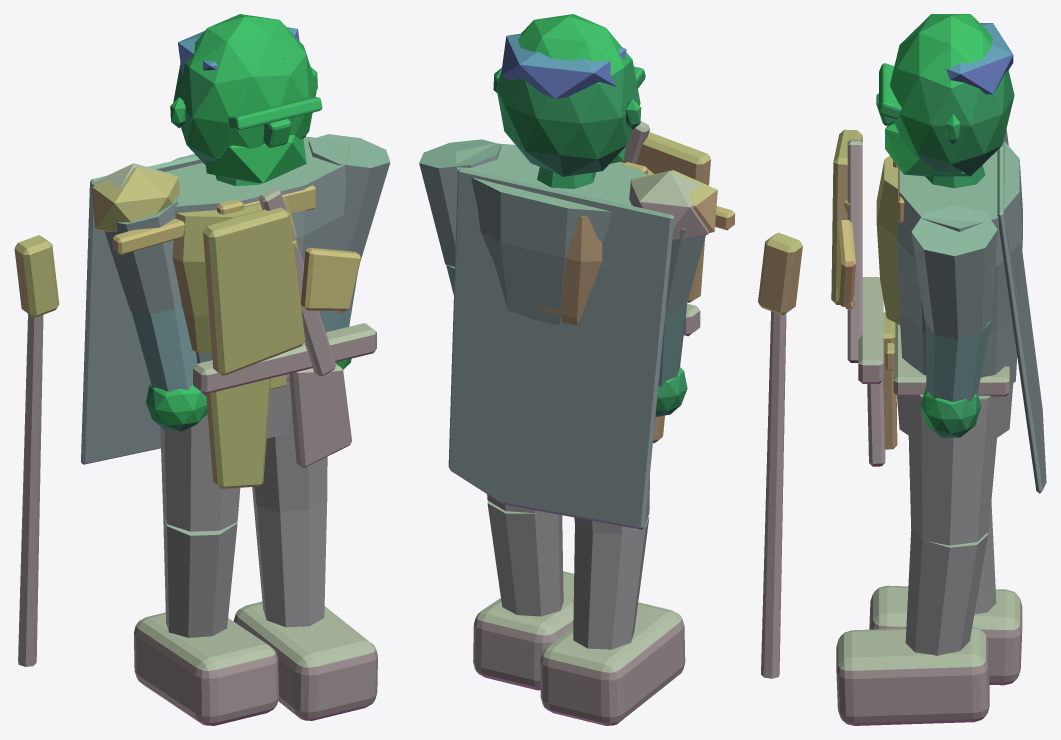
Rendered from npc_raider_contact_r_v01.glb.
3 views of the same model, side by side, from view 1: azimuth 30°, elevation 25°; view 2: azimuth 150°, elevation 25°; view 3: azimuth 270°, elevation 25° (orthographic).
Parts seen in each view (by area): view 1: GEO_npc_raider_contact_r_v01; view 2: GEO_npc_raider_contact_r_v01; view 3: GEO_npc_raider_contact_r_v01.
Part boxes in pixels (x1,y1,x2,y2): GEO_npc_raider_contact_r_v01: [14, 14, 390, 725]; GEO_npc_raider_contact_r_v01: [419, 14, 802, 725]; GEO_npc_raider_contact_r_v01: [831, 14, 1046, 725].
Size of the model in its own units: 1.19 by 2.07 by 0.5966.
